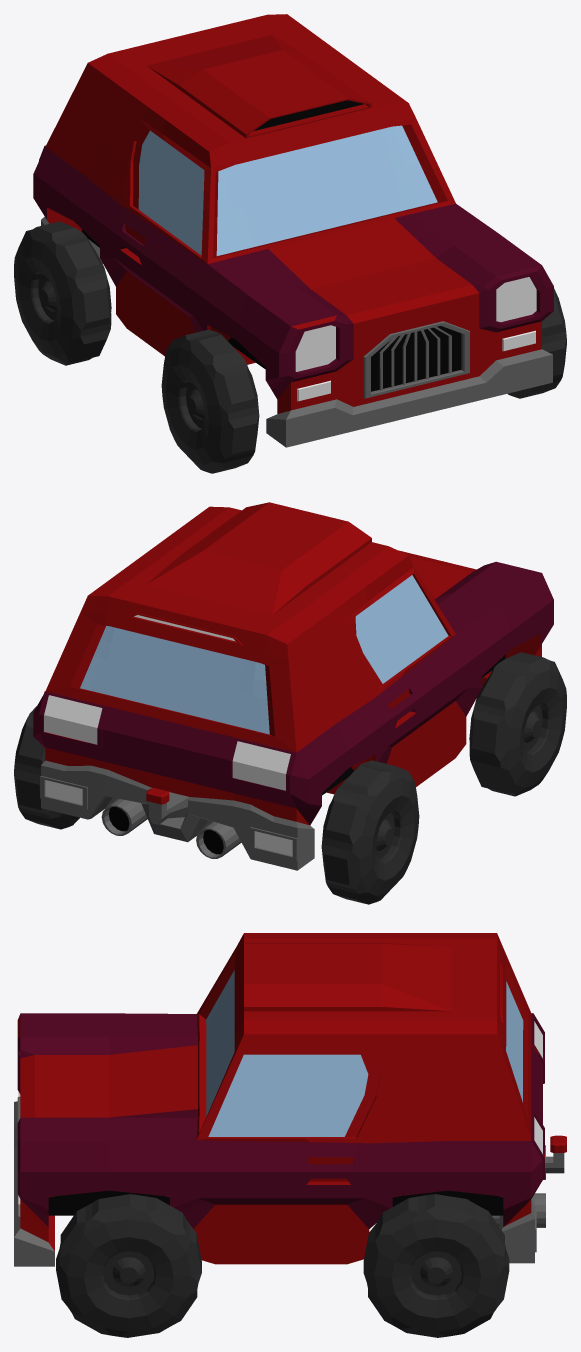
The model's file is car2.fbx.
3 views of the same model, one above another, from view 1: azimuth 30°, elevation 25°; view 2: azimuth 150°, elevation 25°; view 3: azimuth 270°, elevation 25° (orthographic). The views are drawn at different scales.
Visible parts, largest first — view 1: Cube, Cube.001; view 2: Cube, Cube.001; view 3: Cube, Cube.001.
Part boxes in pixels (box(x1,y1,x2,y2)): Cube: box(33, 14, 553, 447); Cube.001: box(14, 221, 566, 473); Cube: box(33, 502, 553, 870); Cube.001: box(14, 652, 566, 904); Cube: box(14, 933, 566, 1266); Cube.001: box(56, 1194, 509, 1337).
Size of the model in its own units: 282 by 212 by 366.
